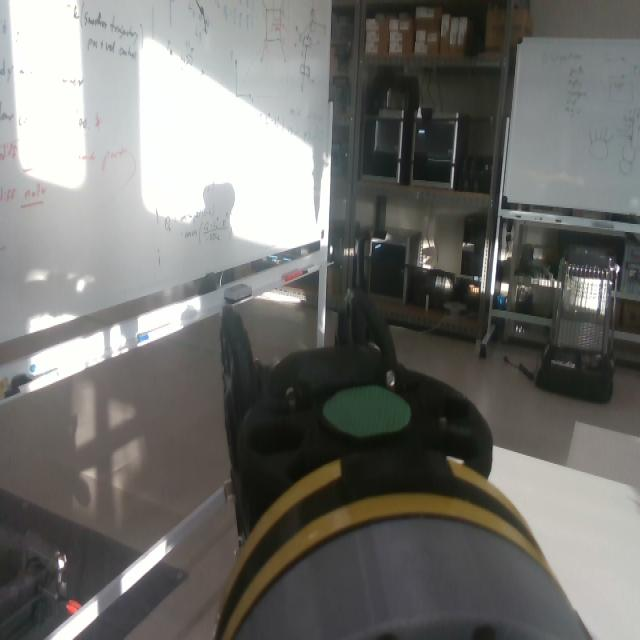body_connector: (231, 516, 590, 640)
connection: (209, 452, 591, 638)
leg: (213, 291, 551, 640)
leg_connector: (209, 448, 546, 636)
marker: (324, 388, 412, 435)
